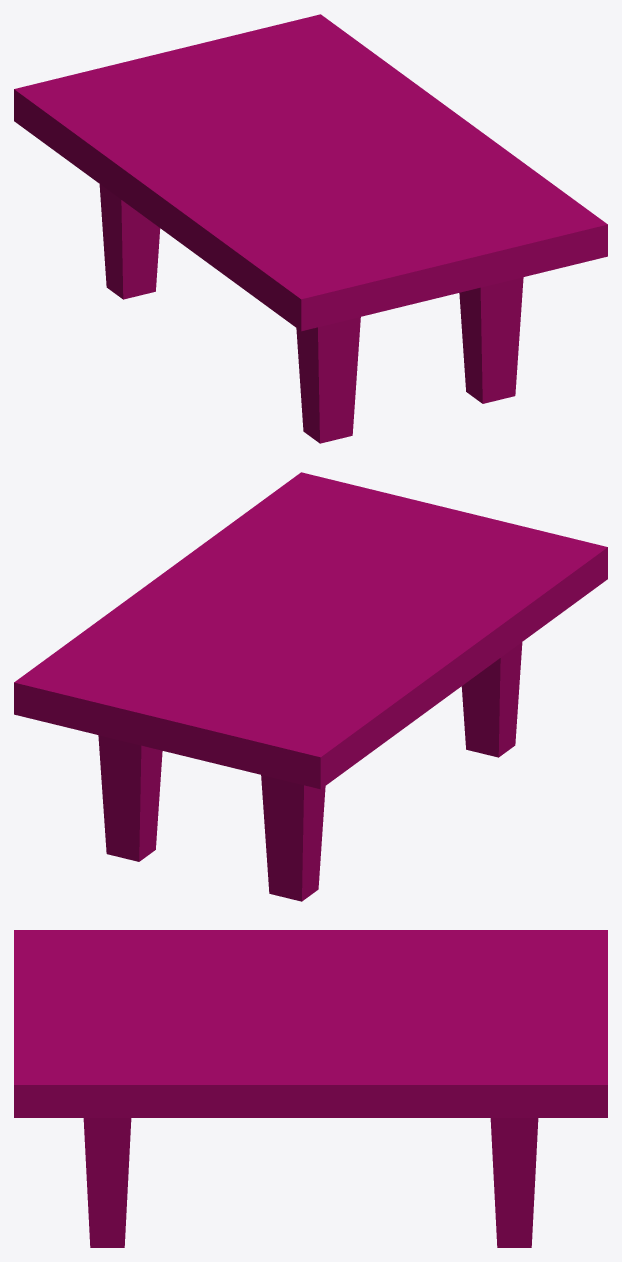
Rendered from table_low.fbx.
3 views of the same model, one above another, from view 1: azimuth 30°, elevation 25°; view 2: azimuth 150°, elevation 25°; view 3: azimuth 270°, elevation 25° (orthographic). The views are drawn at different scales.
Visible parts, largest first — view 1: table_low; view 2: table_low; view 3: table_low.
Part boxes in pixels (<box>): table_low: <box>14,14,607,443</box>; table_low: <box>14,472,607,901</box>; table_low: <box>14,930,607,1247</box>.
Size of the model in its own units: 3.23 by 1.86 by 5.23.
